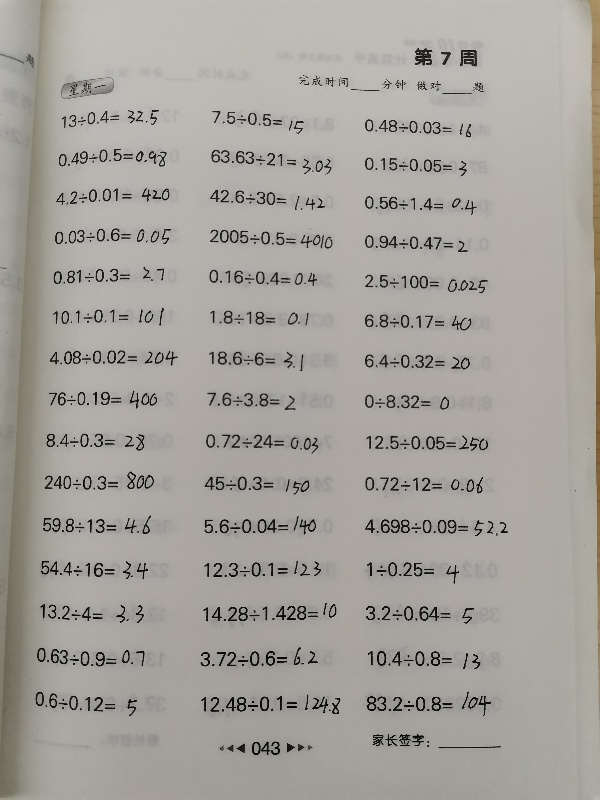equation: (197, 689, 344, 717), (362, 687, 494, 717), (361, 515, 511, 539), (199, 601, 340, 625), (206, 148, 336, 174), (45, 345, 181, 369), (360, 116, 481, 142), (196, 645, 321, 670), (201, 513, 321, 539), (361, 271, 491, 295), (207, 108, 310, 138), (41, 468, 159, 494), (45, 387, 162, 413), (360, 473, 486, 497), (55, 145, 171, 171), (363, 646, 483, 671), (201, 430, 321, 455), (40, 512, 155, 538), (362, 431, 492, 454), (51, 225, 174, 249), (32, 645, 148, 670), (362, 601, 477, 626), (206, 227, 336, 249), (49, 305, 168, 329), (37, 557, 151, 582), (207, 188, 329, 211), (201, 472, 313, 497), (52, 184, 173, 207), (36, 601, 147, 626), (360, 192, 480, 215), (200, 558, 324, 580), (363, 558, 462, 585), (360, 310, 475, 333), (49, 264, 168, 286), (31, 691, 140, 715), (204, 346, 307, 371), (360, 231, 471, 254), (42, 429, 148, 453), (360, 154, 470, 177), (58, 106, 162, 130), (360, 350, 473, 372), (205, 267, 320, 288), (205, 307, 312, 328), (202, 388, 298, 411), (360, 390, 453, 413)
